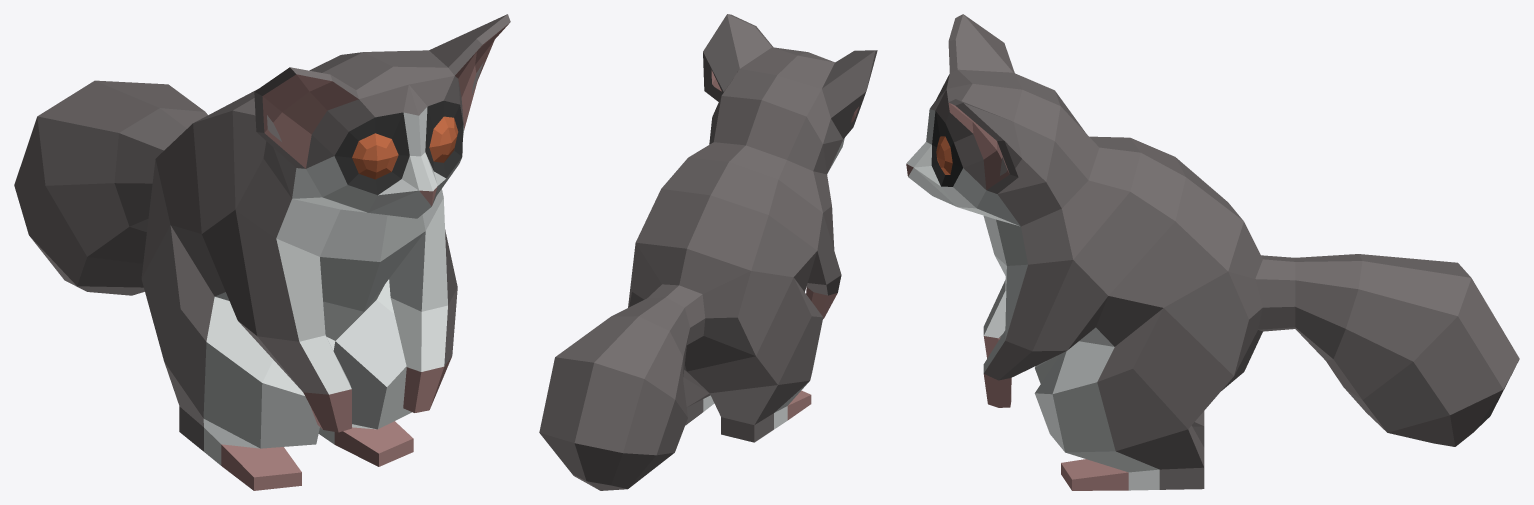
Rendered from Model_Shougarago.fbx.
The picture shows the model from 3 angles, left to right: view 1: azimuth 30°, elevation 25°; view 2: azimuth 150°, elevation 25°; view 3: azimuth 270°, elevation 25°; orthographic projection. The views are drawn at different scales.
Visible parts, largest first — view 1: Shougarago; view 2: Shougarago; view 3: Shougarago.
Part boxes in pixels (x1=…): Shougarago: x1=14, y1=14, x2=510, y2=490; Shougarago: x1=539, y1=14, x2=877, y2=490; Shougarago: x1=906, y1=14, x2=1519, y2=490.
Size of the model in its own units: 28.37 by 54.11 by 75.23.
